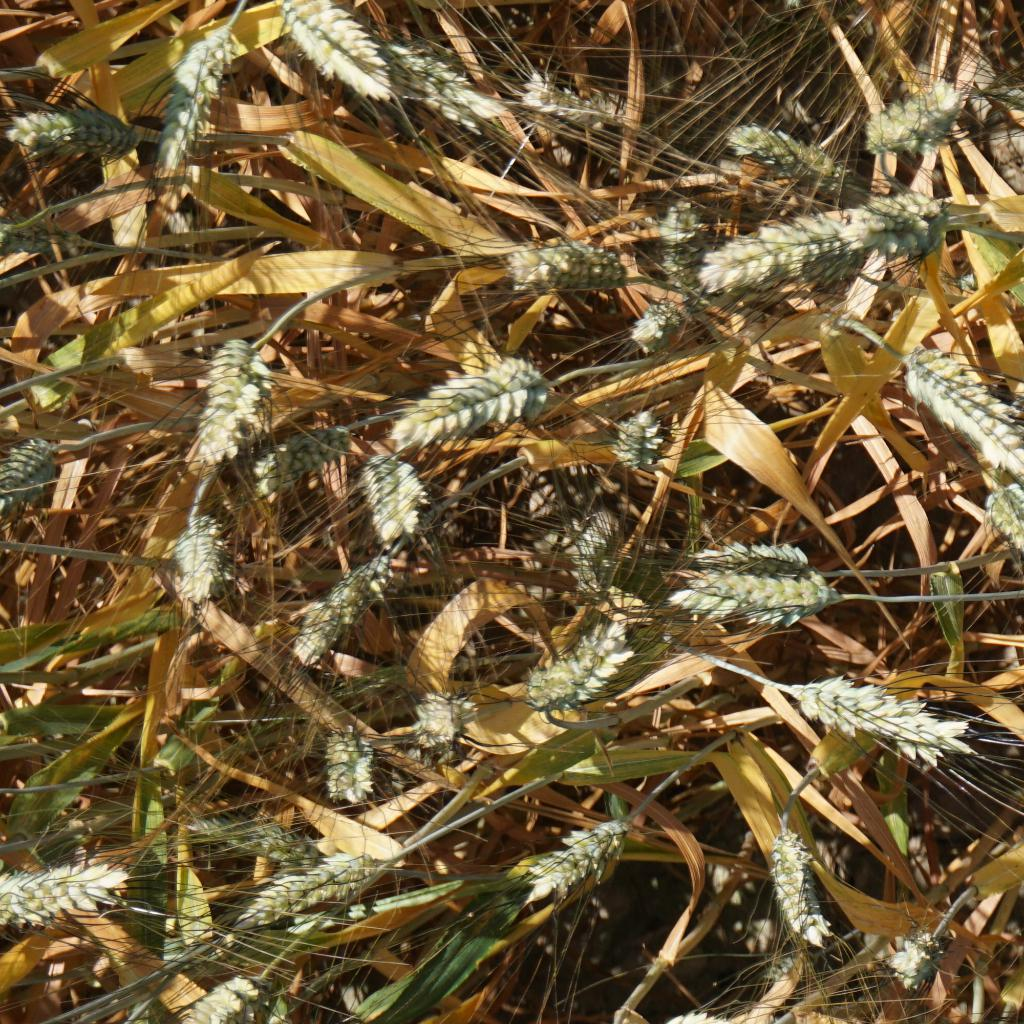0-0: (890, 342, 1024, 480), (788, 672, 973, 755), (140, 29, 243, 176), (702, 197, 860, 288), (275, 0, 404, 111), (381, 33, 500, 132), (175, 343, 271, 465), (380, 365, 550, 431), (512, 814, 636, 903), (290, 558, 394, 656), (513, 632, 647, 706), (0, 93, 139, 159), (668, 564, 832, 619), (243, 416, 343, 500), (194, 803, 325, 867), (0, 868, 131, 927), (499, 243, 629, 301), (772, 824, 830, 950), (242, 855, 368, 913), (848, 184, 952, 252), (729, 118, 842, 179), (864, 84, 963, 148), (354, 452, 424, 542), (506, 73, 620, 123), (684, 531, 816, 572), (873, 929, 955, 989), (174, 512, 226, 604), (403, 691, 474, 758), (0, 430, 54, 515), (985, 482, 1024, 584), (611, 409, 674, 472), (320, 727, 373, 801), (564, 512, 617, 585), (650, 196, 693, 278), (621, 297, 681, 353), (189, 978, 258, 1024), (0, 218, 81, 257), (991, 79, 1024, 145)
